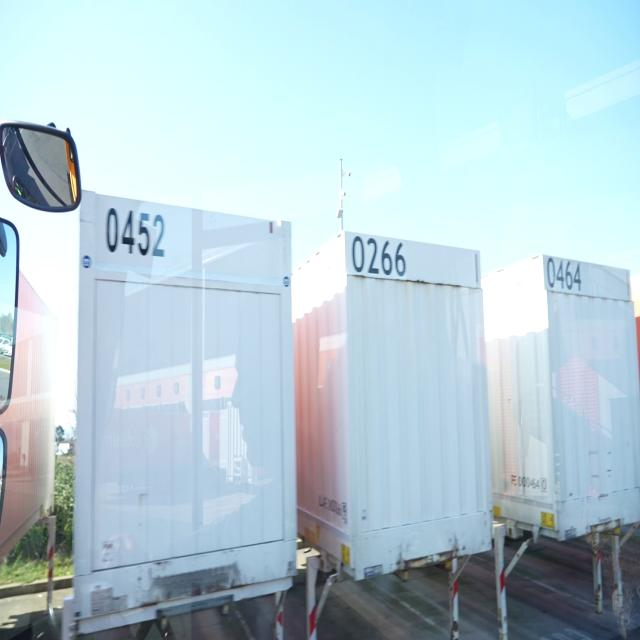Code: (100, 197, 168, 268), (350, 228, 410, 283), (543, 252, 588, 298)
